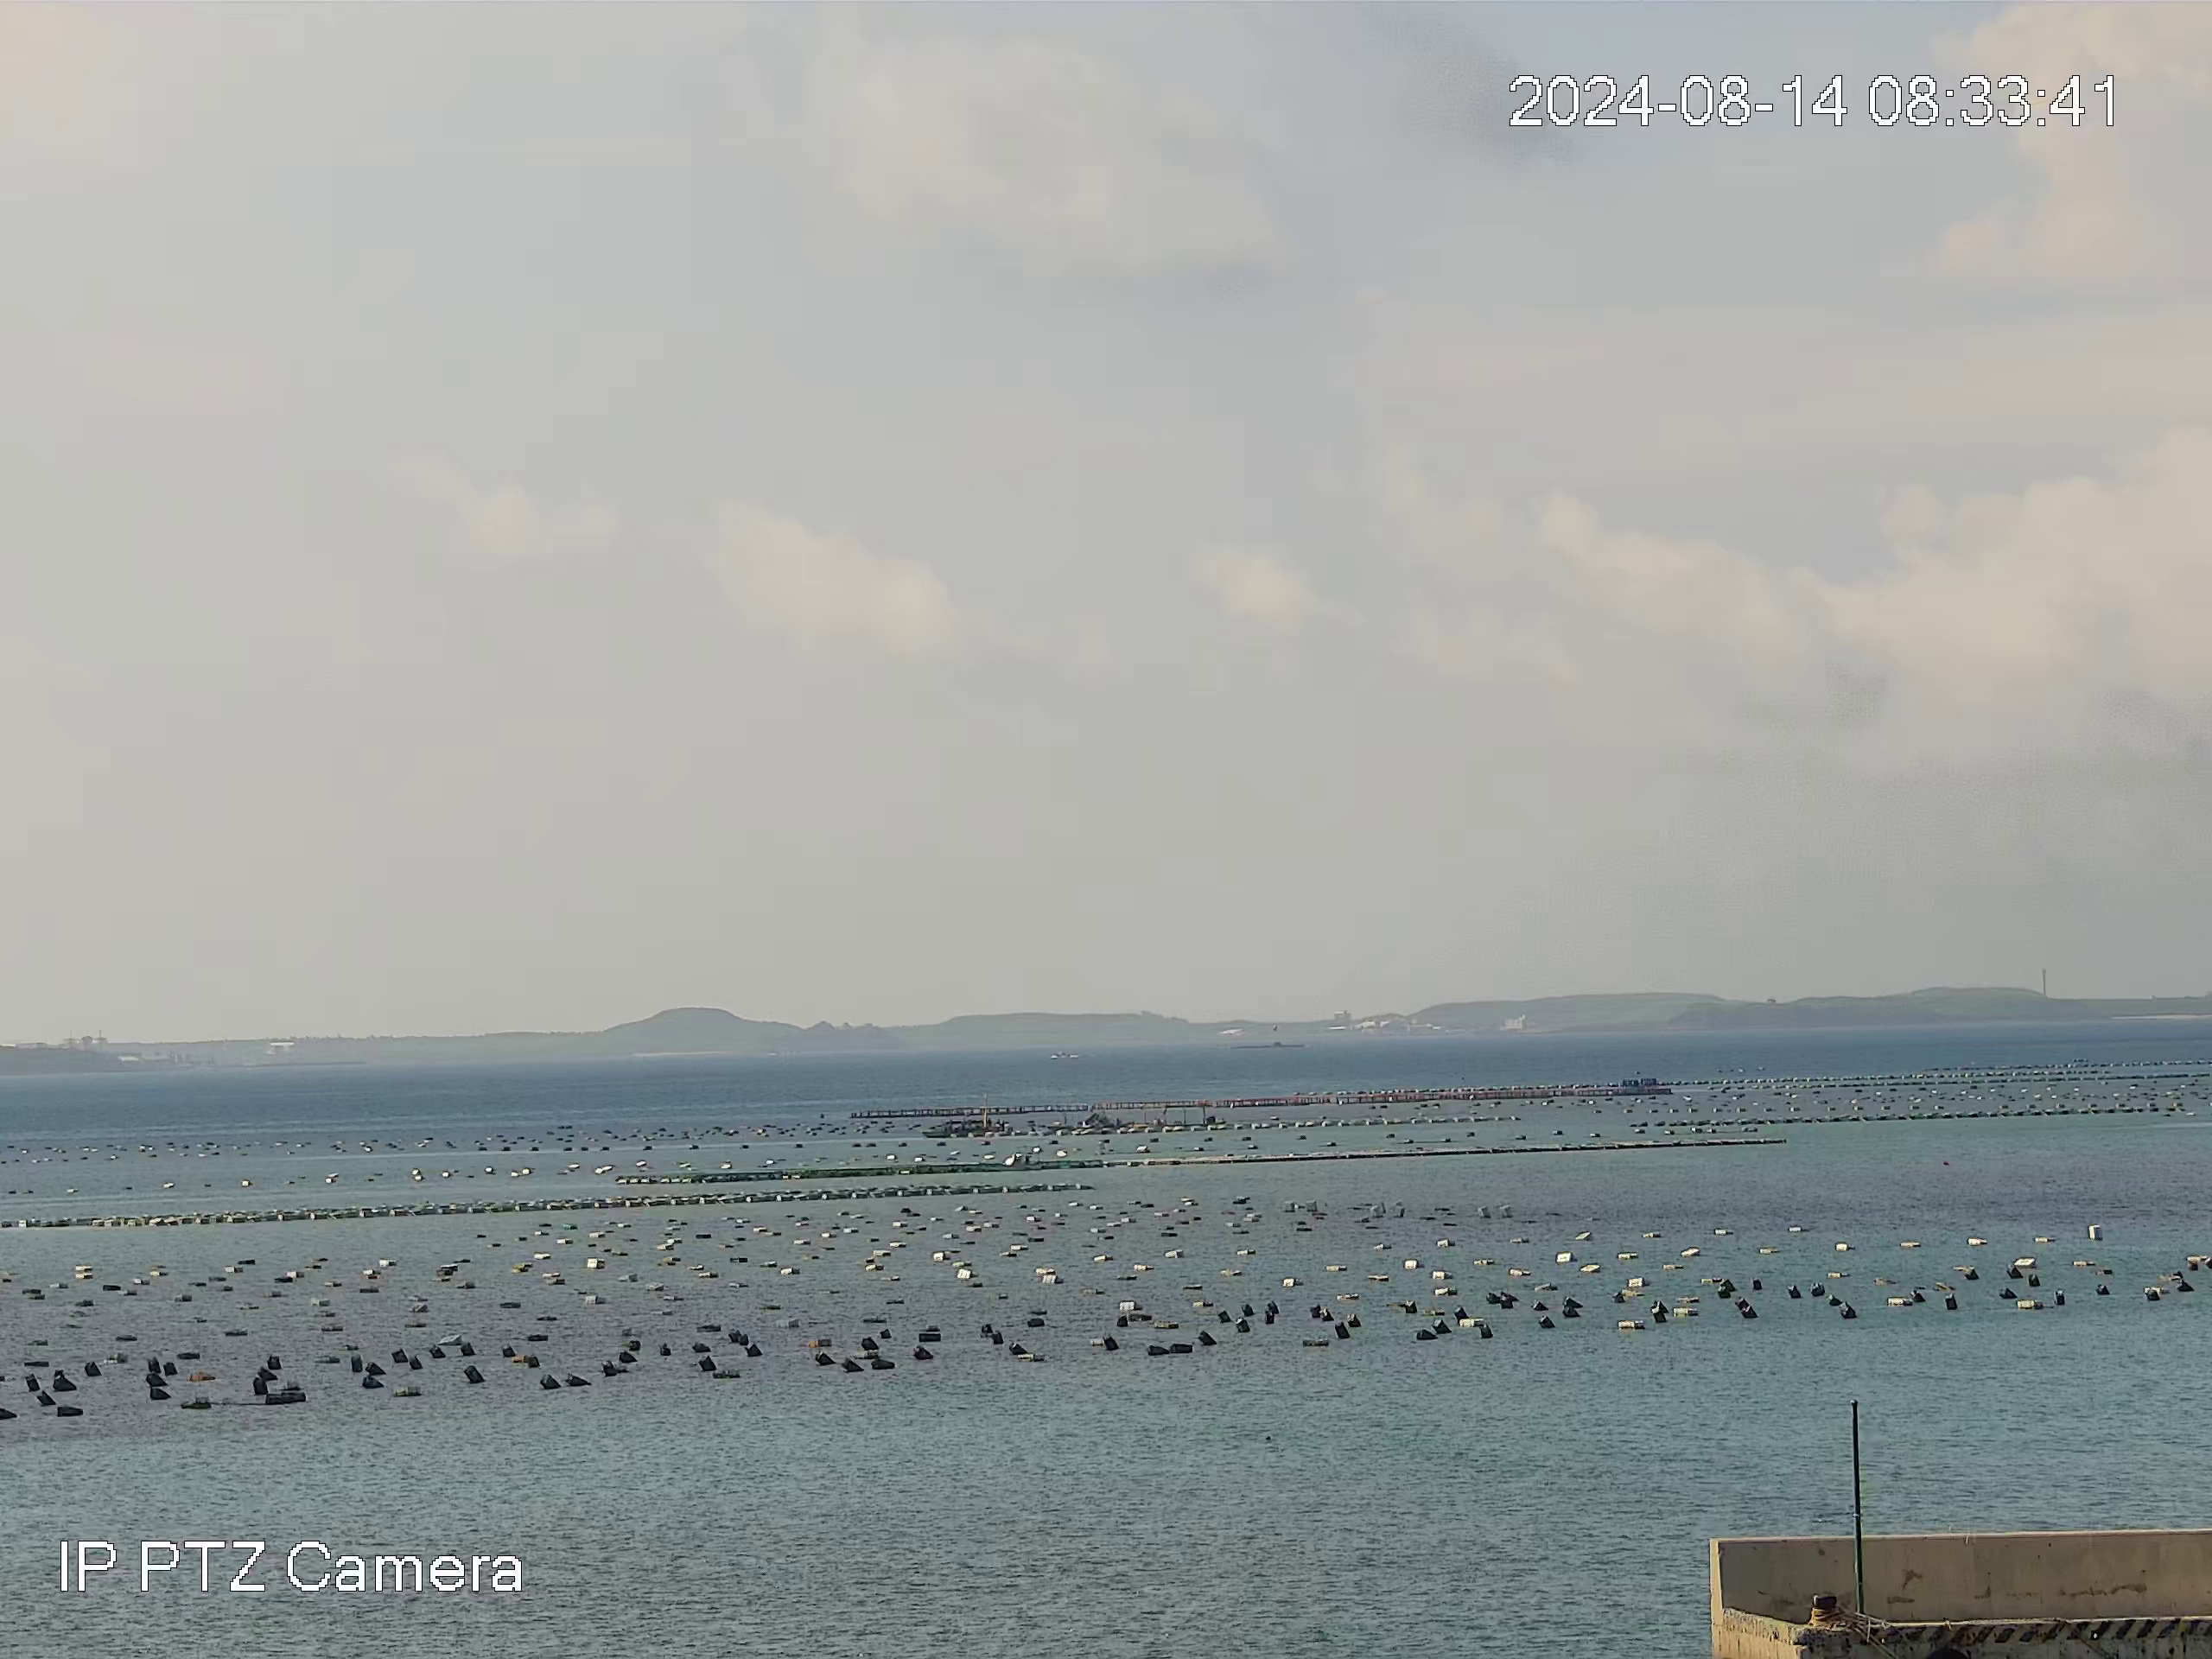boat: (923, 1121, 1014, 1140)
